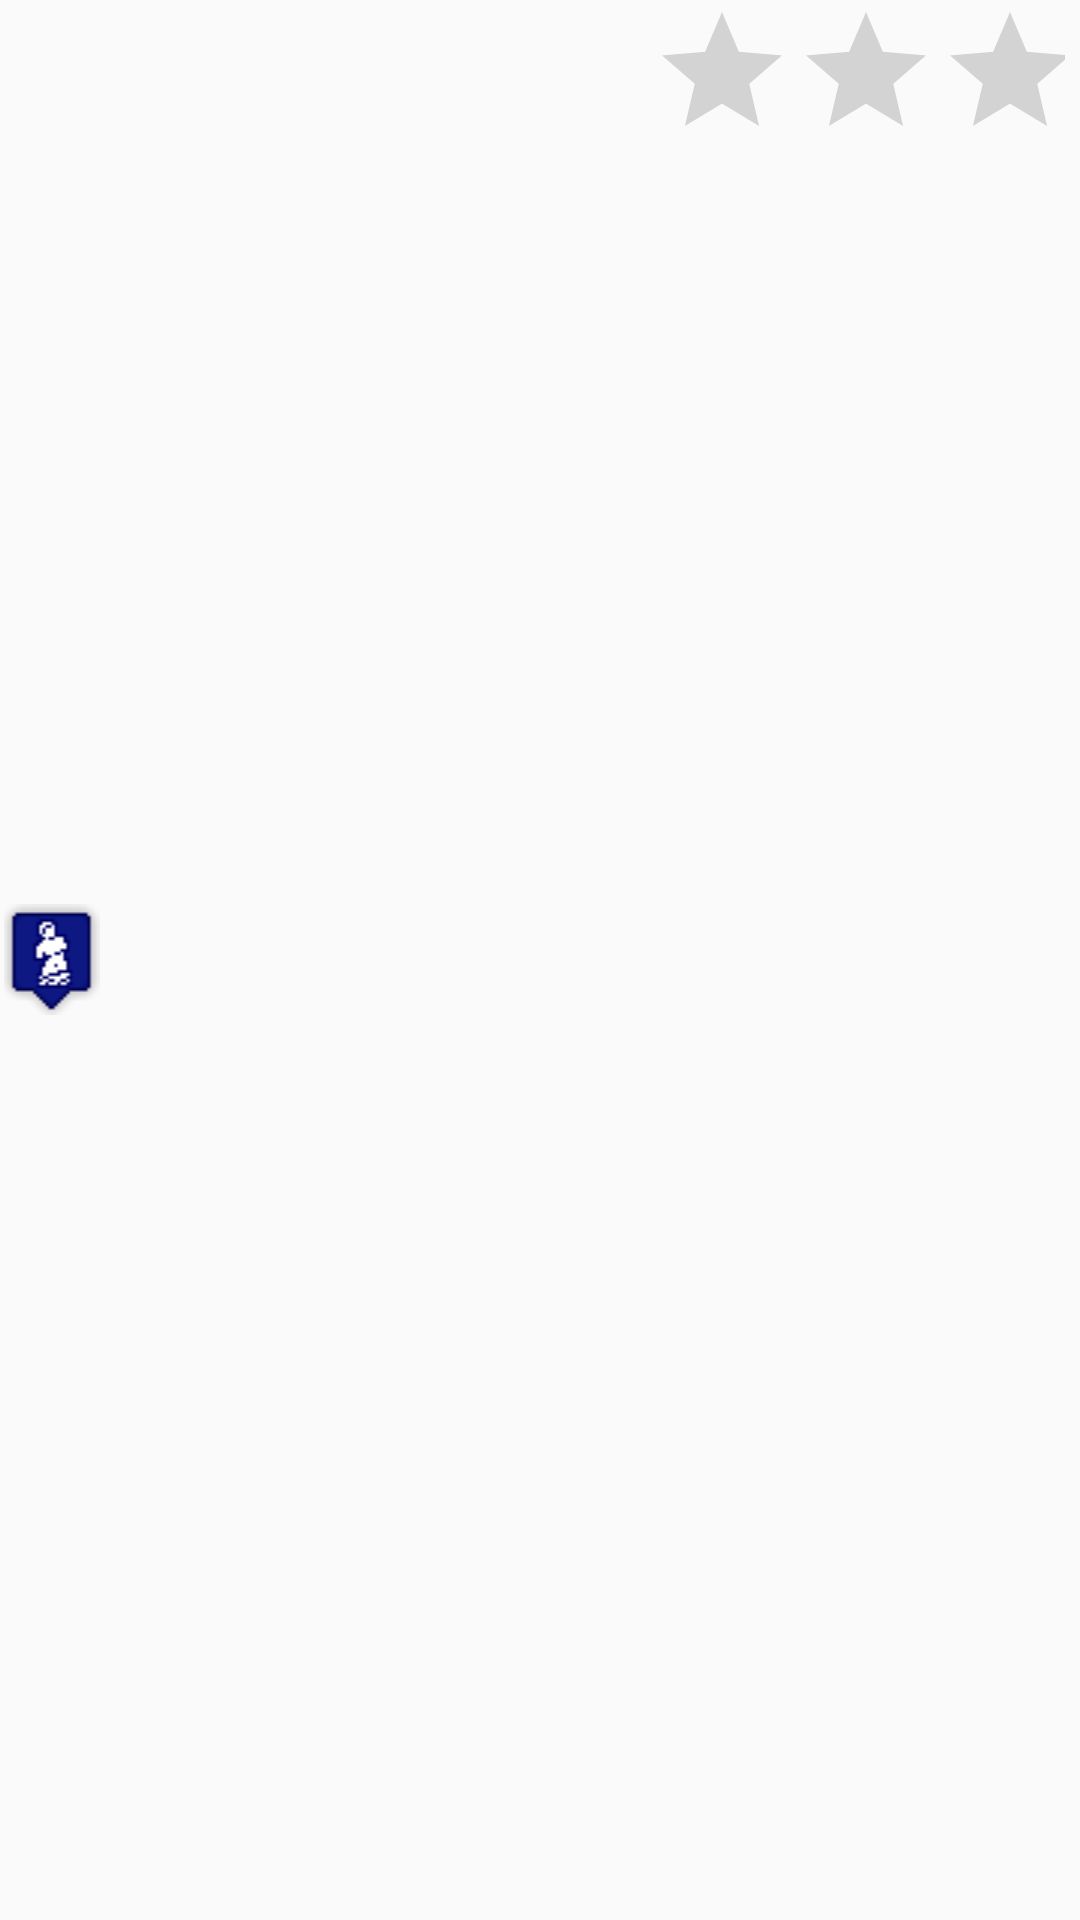

Where icons sit on this 1080 × 1920 app screen, as (x1, y1, x2, y2):
culture artwork: (7, 908, 96, 1011)
